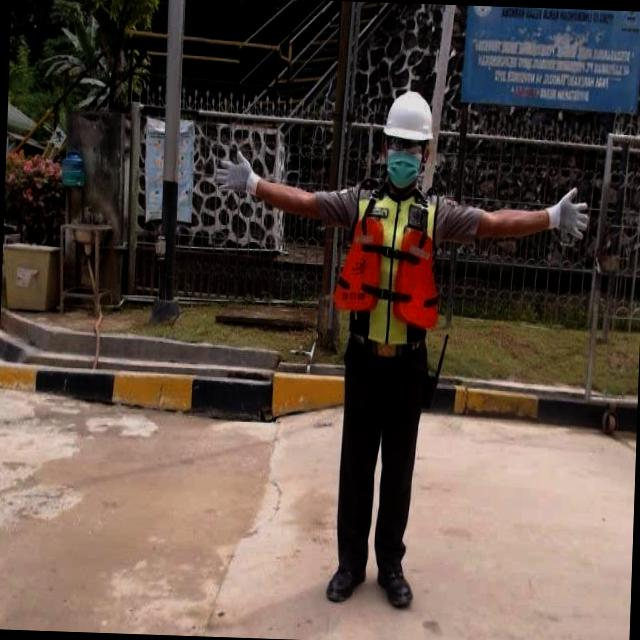vest: (332, 184, 443, 350)
